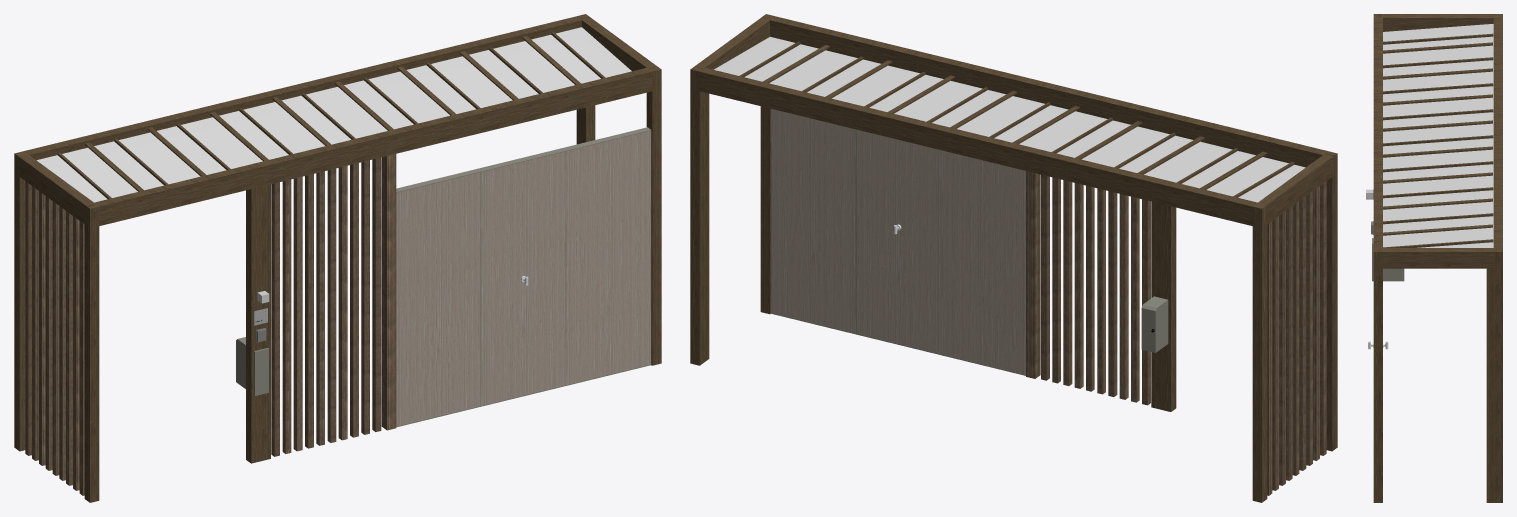
Rendered from hy18-e_brownebony.fbx.
3 views of the same model, side by side, from view 1: azimuth 30°, elevation 25°; view 2: azimuth 150°, elevation 25°; view 3: azimuth 270°, elevation 25° (orthographic). The views are drawn at different scales.
Visible parts, largest first — view 1: hy18-e_brownebony; view 2: hy18-e_brownebony; view 3: hy18-e_brownebony.
Part boxes in pixels (x1=…): hy18-e_brownebony: x1=14, y1=14, x2=661, y2=502; hy18-e_brownebony: x1=690, y1=14, x2=1337, y2=502; hy18-e_brownebony: x1=1366, y1=14, x2=1502, y2=502.
Bounding box in the file's own units: 610 × 300 × 148.
21 materials, 10 textured.
